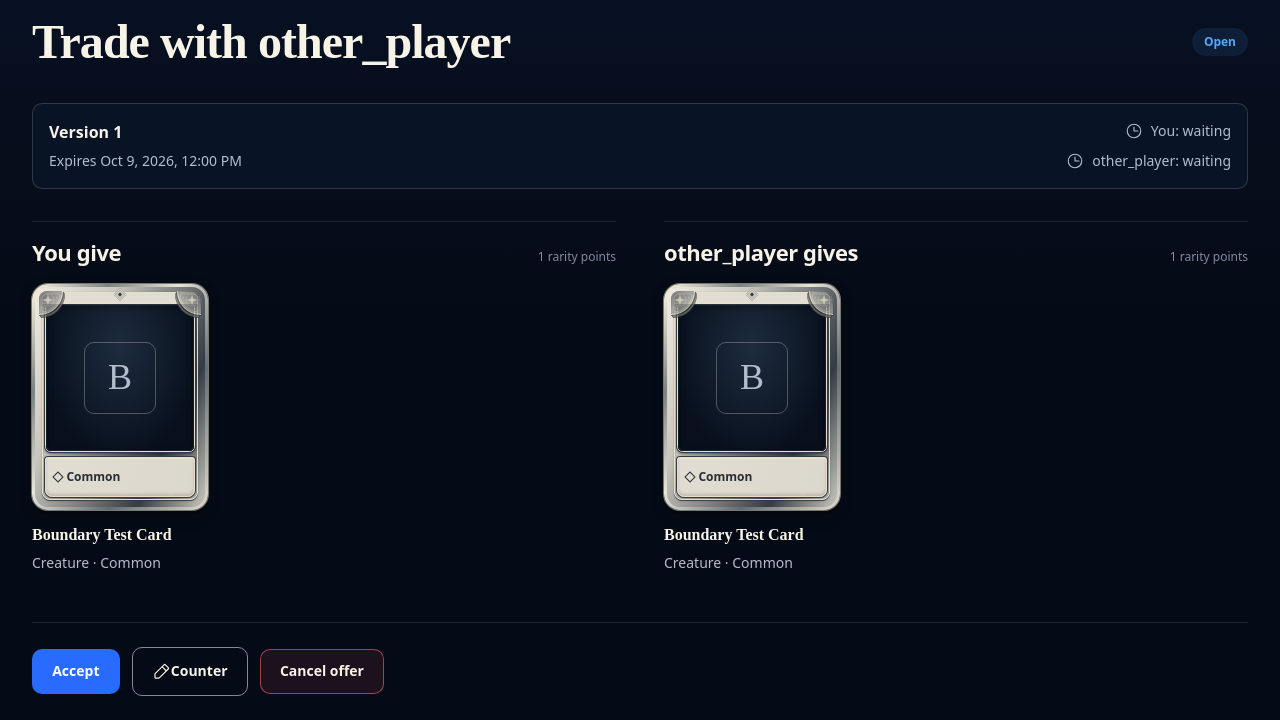
trade detail action boundaries › sender can Cancel offer and sees the server terminal state
(page scrolled)
Click the button "Cancel offer" at (322,672), box x1=260 y1=649 x2=384 y2=694
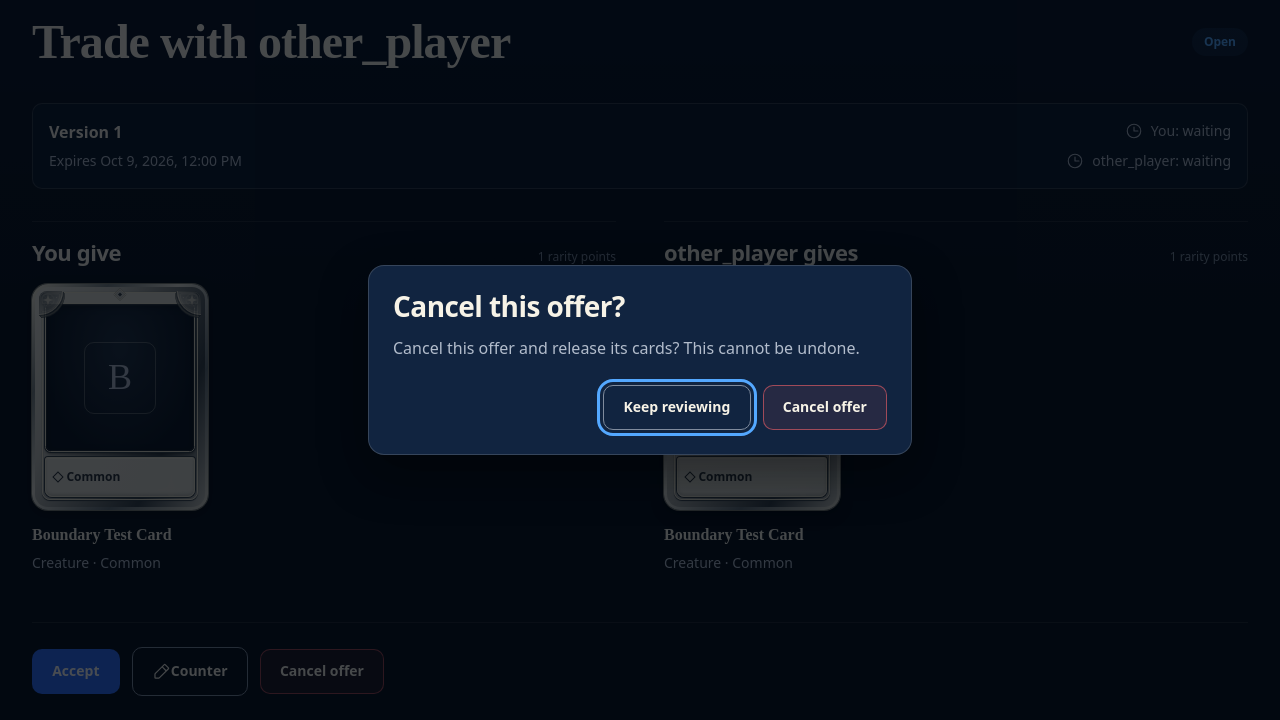
Expected: the dialog shows "Cancel this offer", x1=393 y1=287 x2=625 y2=325
Click the button "Cancel offer" at (825,408), box x1=762 y1=385 x2=887 y2=430
(page scrolled)
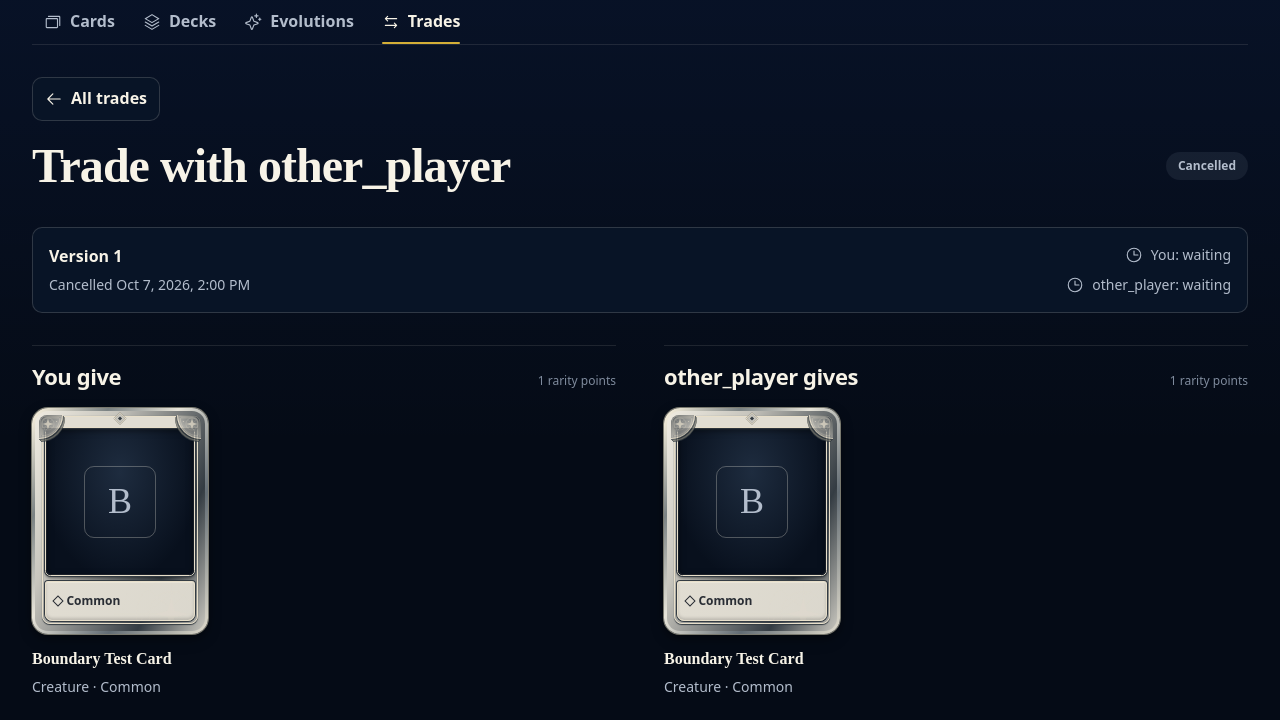
Expected: the text "Cancelled" is shown, x1=1166 y1=152 x2=1248 y2=180
